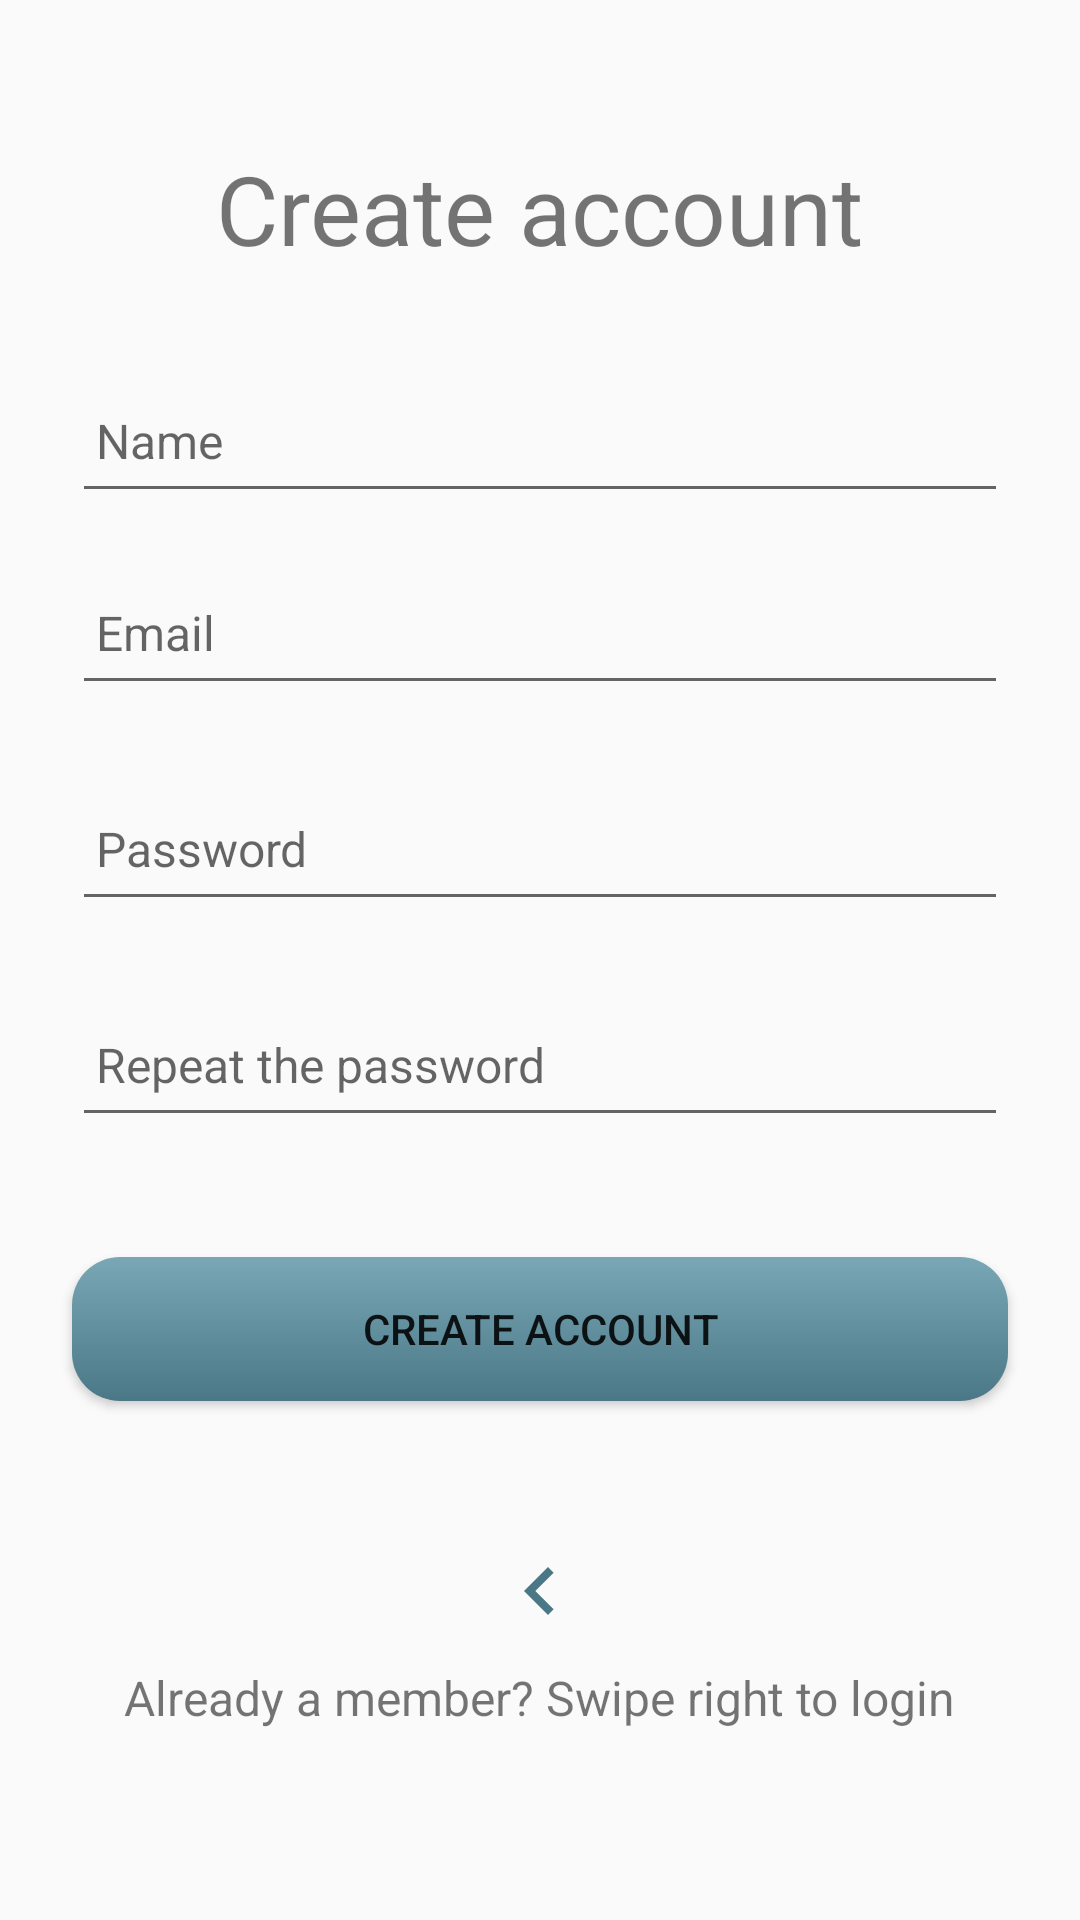

Screen size 1080px×1920px. Icon name, then its center in pixels as [x,y]:
arrow left: [539,1591]
